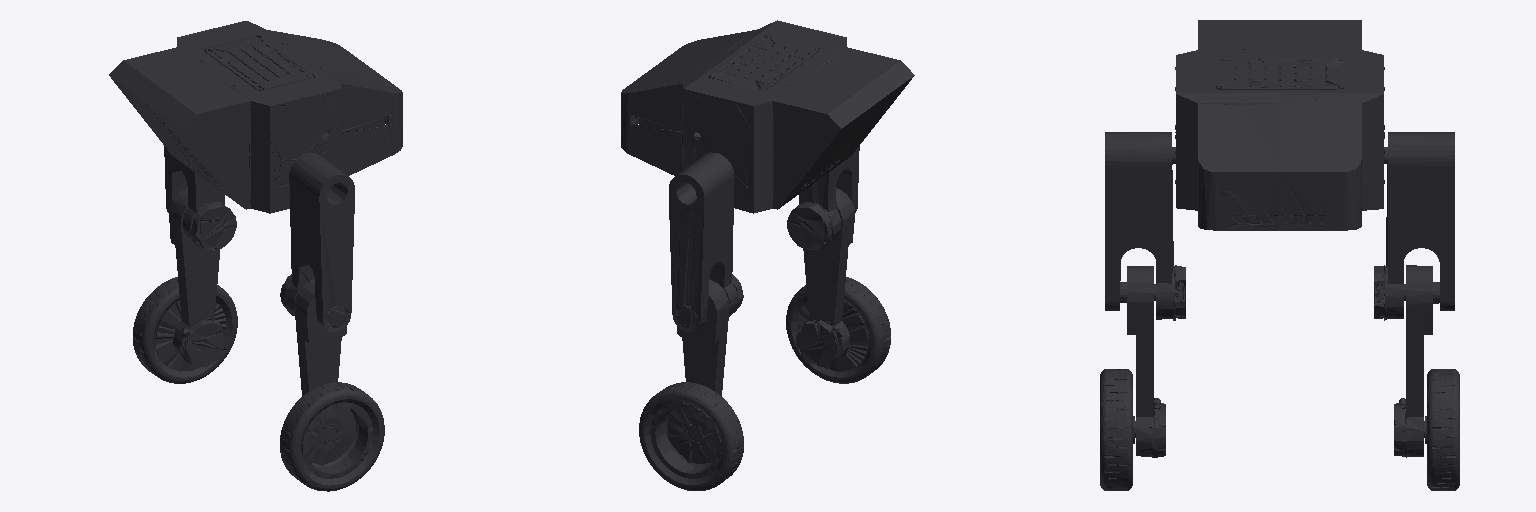
robot.urdf — wheelbiped_v5:
<robot name="wheelbiped_v5">
  <!-- Generated by wbr/models/build_v5.py from the Fusion model (robot_cad_v5). q = 0: straight legs. Base frame: midpoint of
       the hip axes, x forward, y left, z up; every joint axis is +y. Masses, COMs and inertias: mass_properties.json. -->
  <material name="body"><color rgba="0.25 0.25 0.27 1"/></material>
  <link name="base">
    <inertial><origin xyz="0.0009640859 0.0001309282 0.05898933" rpy="0 0 0"/><mass value="5.248826"/><inertia ixx="0.08584487" ixy="0.0001607838" ixz="0.001377685" iyy="0.04175314" iyz="9.143988e-05" izz="0.08849805"/></inertial>
    <visual><geometry><mesh filename="meshes/base.stl"/></geometry><material name="body"/></visual>
    <collision><origin xyz="0.00225 0 0.039" rpy="0 0 0"/><geometry><box size="0.4845 0.3473 0.2213"/></geometry></collision>
  </link>
  <link name="imu"/>
  <joint name="imu_fix" type="fixed">
    <origin xyz="-0.0005 -0.00245 -0.0355" rpy="0 -0 3.141593"/><parent link="base"/><child link="imu"/>
  </joint>
  <link name="left_thigh">
    <inertial><origin xyz="-0.0001321901 0.04517764 -0.1455838" rpy="0 0 0"/><mass value="1.260606"/><inertia ixx="0.01106419" ixy="-2.486555e-06" ixz="0.003029101" iyy="0.01397073" iyz="-0.0006128648" izz="0.007025958"/></inertial>
    <visual><geometry><mesh filename="meshes/left_thigh.stl"/></geometry><material name="body"/></visual>
    <collision><origin xyz="0 0.049525 -0.125" rpy="0 0 0"/><geometry><box size="0.06622591 0.13395 0.25"/></geometry></collision>
  </link>
  <link name="left_shank">
    <inertial><origin xyz="-0.0001604264 0.01399181 -0.1482051" rpy="0 0 0"/><mass value="0.8572084"/><inertia ixx="0.008200375" ixy="-4.703406e-07" ixz="-0.001787271" iyy="0.01095732" iyz="-0.0001875019" izz="0.003142783"/></inertial>
    <visual><geometry><mesh filename="meshes/left_shank.stl"/></geometry><material name="body"/></visual>
    <collision><origin xyz="0 0.02425 -0.125" rpy="0 0 0"/><geometry><box size="0.07136908 0.0415 0.25"/></geometry></collision>
    <collision><origin xyz="0 0.005275002 -0.25" rpy="1.570796 0 0"/><geometry><cylinder radius="0.04645" length="0.04945"/></geometry></collision>
  </link>
  <link name="left_wheel_link">
    <inertial><origin xyz="-1.30381e-13 -0.004022413 6.44667e-14" rpy="0 0 0"/><mass value="1.056258"/><inertia ixx="0.003577866" ixy="-4.767672e-16" ixz="1.202257e-12" iyy="0.006629081" iyz="1.685614e-16" izz="0.003577866"/></inertial>
    <visual><geometry><mesh filename="meshes/left_wheel_link.stl"/></geometry><material name="body"/></visual>
    <collision><origin xyz="0 0 0" rpy="1.570796 0 0"/><geometry><cylinder radius="0.101" length="0.054"/></geometry></collision>
  </link>
  <joint name="left_hip" type="revolute">
    <origin xyz="0 0.172 0" rpy="0 0 0"/><parent link="base"/><child link="left_thigh"/>
    <axis xyz="0 1 0"/><limit effort="12.5" velocity="25.13" lower="-3.14159" upper="3.14159"/>
  </joint>
  <joint name="left_knee" type="revolute">
    <origin xyz="0 0.036 -0.25" rpy="0 0 0"/><parent link="left_thigh"/><child link="left_shank"/>
    <axis xyz="0 1 0"/><limit effort="12.5" velocity="25.13" lower="-3.14159" upper="3.14159"/>
  </joint>
  <joint name="left_wheel" type="continuous">
    <origin xyz="0 0.062 -0.25" rpy="0 0 0"/><parent link="left_shank"/><child link="left_wheel_link"/>
    <axis xyz="0 1 0"/><limit effort="12.5" velocity="25.13"/>
  </joint>
  <link name="right_thigh">
    <inertial><origin xyz="-0.0001321901 -0.04517764 -0.1455838" rpy="0 0 0"/><mass value="1.260606"/><inertia ixx="0.01106419" ixy="2.486555e-06" ixz="0.003029101" iyy="0.01397073" iyz="0.0006128648" izz="0.007025958"/></inertial>
    <visual><geometry><mesh filename="meshes/right_thigh.stl"/></geometry><material name="body"/></visual>
    <collision><origin xyz="0 -0.049525 -0.125" rpy="0 0 0"/><geometry><box size="0.06622591 0.13395 0.25"/></geometry></collision>
  </link>
  <link name="right_shank">
    <inertial><origin xyz="-0.0001604264 -0.01399181 -0.1482051" rpy="0 0 0"/><mass value="0.8572084"/><inertia ixx="0.008200375" ixy="4.703406e-07" ixz="-0.001787271" iyy="0.01095732" iyz="0.0001875019" izz="0.003142783"/></inertial>
    <visual><geometry><mesh filename="meshes/right_shank.stl"/></geometry><material name="body"/></visual>
    <collision><origin xyz="0 -0.02425 -0.125" rpy="0 0 0"/><geometry><box size="0.07136908 0.0415 0.25"/></geometry></collision>
    <collision><origin xyz="0 -0.005275002 -0.25" rpy="1.570796 0 0"/><geometry><cylinder radius="0.04645" length="0.04945"/></geometry></collision>
  </link>
  <link name="right_wheel_link">
    <inertial><origin xyz="3.855043e-14 0.004022413 -1.730683e-14" rpy="0 0 0"/><mass value="1.056258"/><inertia ixx="0.003577866" ixy="-6.395061e-15" ixz="-9.553806e-12" iyy="0.006629081" iyz="3.264004e-15" izz="0.003577866"/></inertial>
    <visual><geometry><mesh filename="meshes/right_wheel_link.stl"/></geometry><material name="body"/></visual>
    <collision><origin xyz="0 -0 0" rpy="1.570796 0 0"/><geometry><cylinder radius="0.101" length="0.054"/></geometry></collision>
  </link>
  <joint name="right_hip" type="revolute">
    <origin xyz="0 -0.172 0" rpy="0 0 0"/><parent link="base"/><child link="right_thigh"/>
    <axis xyz="0 1 0"/><limit effort="12.5" velocity="25.13" lower="-3.14159" upper="3.14159"/>
  </joint>
  <joint name="right_knee" type="revolute">
    <origin xyz="0 -0.036 -0.25" rpy="0 0 0"/><parent link="right_thigh"/><child link="right_shank"/>
    <axis xyz="0 1 0"/><limit effort="12.5" velocity="25.13" lower="-3.14159" upper="3.14159"/>
  </joint>
  <joint name="right_wheel" type="continuous">
    <origin xyz="0 -0.062 -0.25" rpy="0 0 0"/><parent link="right_shank"/><child link="right_wheel_link"/>
    <axis xyz="0 1 0"/><limit effort="12.5" velocity="25.13"/>
  </joint>
</robot>

--- What the picture shows (computed from the rendered views, not written in the file) ---
Views: 3 orthographic renders of the robot side by side, from view 1: azimuth 30°, elevation 25°; view 2: azimuth 150°, elevation 25°; view 3: azimuth 270°, elevation 25°.
Model wheelbiped_v5 with 8 links and 7 joints (4 revolute, 2 continuous, 1 fixed), rooted at base, posed every joint at zero.
Links seen in each view (by area): view 1: base, right_thigh, right_wheel_link, left_shank, left_wheel_link, left_thigh, right_shank; view 2: base, left_thigh, left_wheel_link, right_shank, right_wheel_link, right_thigh, left_shank; view 3: base, left_thigh, right_thigh, left_shank, right_shank, left_wheel_link, right_wheel_link.
Boxes of the visible links, x1,y1,x2,y2 form: base: [109, 21, 402, 213]; right_thigh: [280, 152, 354, 331]; right_wheel_link: [280, 382, 384, 491]; left_shank: [169, 188, 227, 366]; left_wheel_link: [133, 277, 237, 383]; left_thigh: [164, 146, 236, 250]; right_shank: [294, 279, 346, 395]; base: [621, 20, 914, 213]; left_thigh: [669, 152, 743, 331]; left_wheel_link: [639, 382, 743, 490]; right_shank: [796, 188, 854, 367]; right_wheel_link: [786, 277, 890, 383]; right_thigh: [787, 146, 859, 249]; left_shank: [677, 279, 729, 396]; base: [1175, 20, 1384, 230]; left_thigh: [1374, 132, 1454, 320]; right_thigh: [1105, 132, 1185, 320]; left_shank: [1394, 265, 1432, 457]; right_shank: [1127, 266, 1165, 457]; left_wheel_link: [1424, 369, 1459, 490]; right_wheel_link: [1100, 369, 1135, 490].
Bounding box of the posed robot: 0.4837 × 0.5946 × 0.7513 m (x, y, z).
7 mesh visuals loaded from 7 distinct referenced files (7 binary STL).
